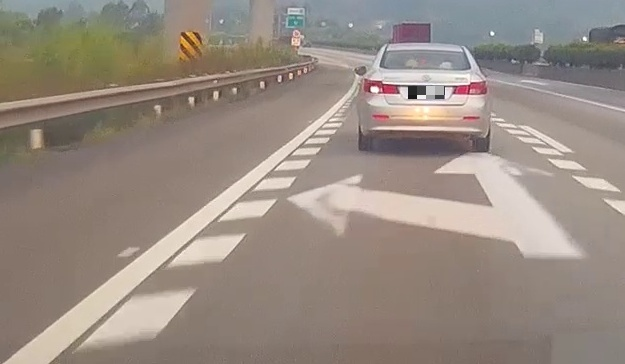L_light: (364, 78, 400, 94)
R_light: (453, 80, 488, 96)
T_light: (420, 50, 431, 54)
day-left: (356, 42, 490, 153)
plate_1: (408, 86, 445, 99)
